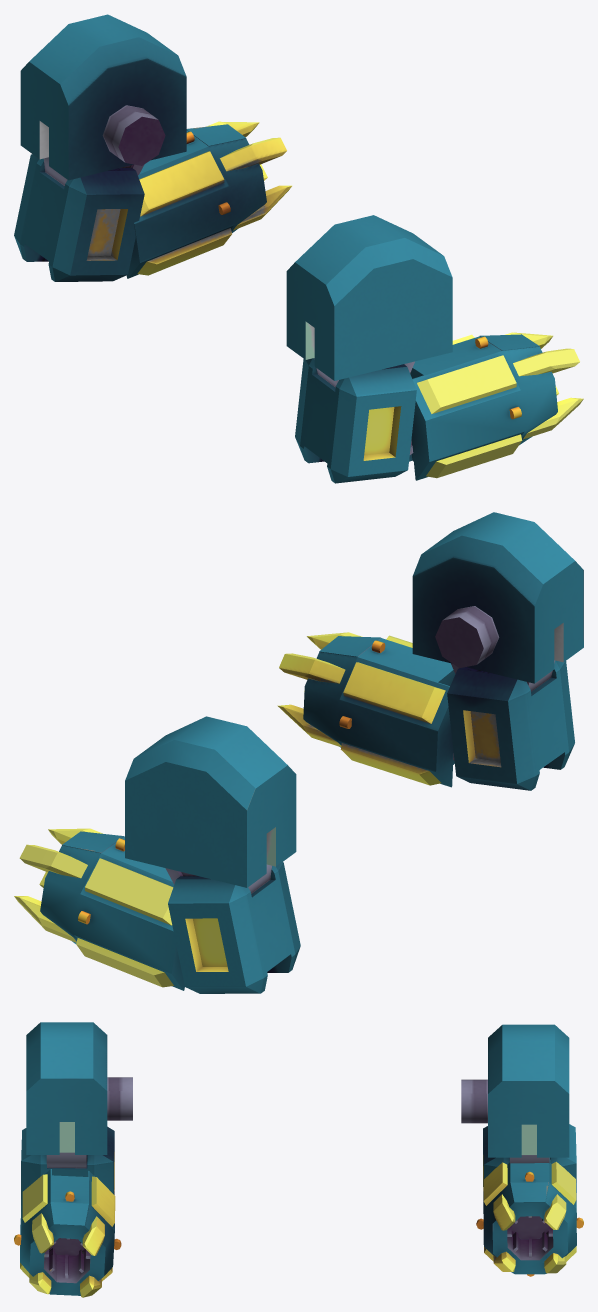
The model's file is Player_Attack_Arm16.obj.
The picture shows the model from 3 angles, top to bottom: view 1: azimuth 30°, elevation 25°; view 2: azimuth 150°, elevation 25°; view 3: azimuth 270°, elevation 25°; orthographic projection. The views are drawn at different scales.
Parts seen in each view (by area): view 1: Object005, Object003, Object001, Object007, Object006, Object002; view 2: Object003, Object005, Object001, Object007, Object006, Object002; view 3: Object005, Object003, Object001, Object007, Object002, Object006.
Part boxes in pixels (x1=…): Object005: x1=20, y1=14, x2=186, y2=180; Object003: x1=286, y1=215, x2=452, y2=380; Object001: x1=409, y1=332, x2=583, y2=480; Object007: x1=126, y1=121, x2=291, y2=278; Object006: x1=14, y1=154, x2=144, y2=281; Object002: x1=295, y1=358, x2=416, y2=483; Object003: x1=412, y1=512, x2=583, y2=683; Object005: x1=125, y1=716, x2=296, y2=887; Object001: x1=277, y1=632, x2=455, y2=787; Object007: x1=14, y1=828, x2=184, y2=990; Object006: x1=165, y1=862, x2=300, y2=993; Object002: x1=447, y1=660, x2=574, y2=790; Object005: x1=461, y1=1024, x2=569, y2=1157; Object003: x1=26, y1=1022, x2=132, y2=1154; Object001: x1=14, y1=1169, x2=121, y2=1297; Object007: x1=476, y1=1158, x2=583, y2=1276; Object002: x1=21, y1=1126, x2=114, y2=1211; Object006: x1=483, y1=1124, x2=576, y2=1217.
Size of the model in its own units: 37.51 by 34.52 by 83.71.
Materials: 1 (1 with a texture image).
